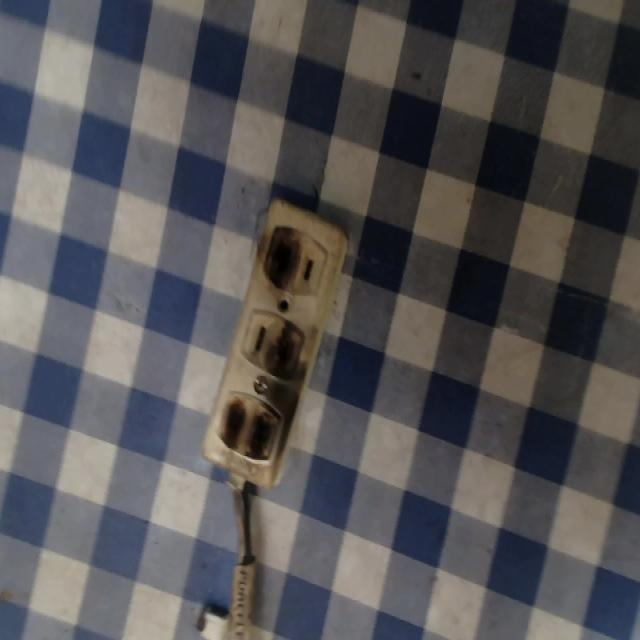-: (212, 390, 279, 470), (263, 217, 303, 291), (270, 317, 308, 380)
